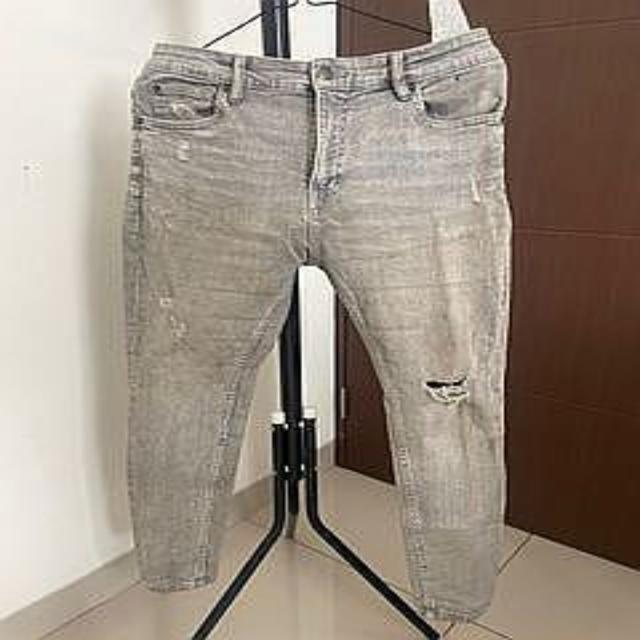TROUSER: (117, 33, 544, 628)
